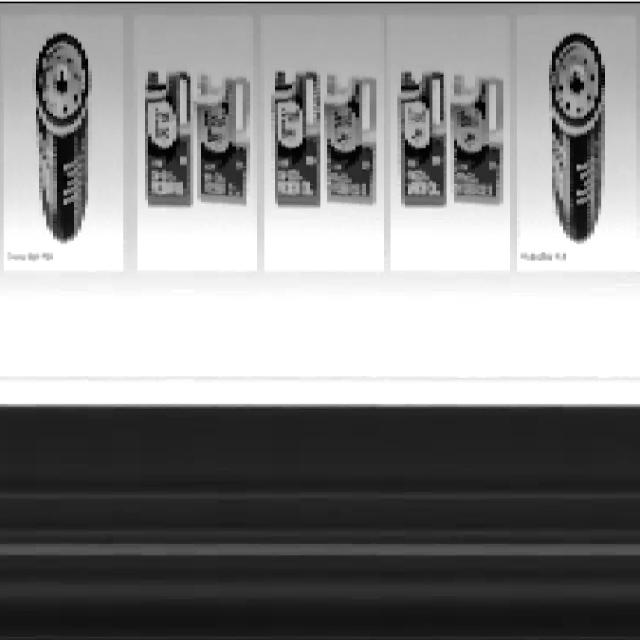motor_oil: (196, 70, 252, 212), (269, 64, 322, 210), (326, 67, 379, 211), (144, 64, 193, 216), (399, 62, 448, 211), (455, 68, 506, 211)
oil_filter: (29, 20, 92, 246), (546, 29, 608, 247)
